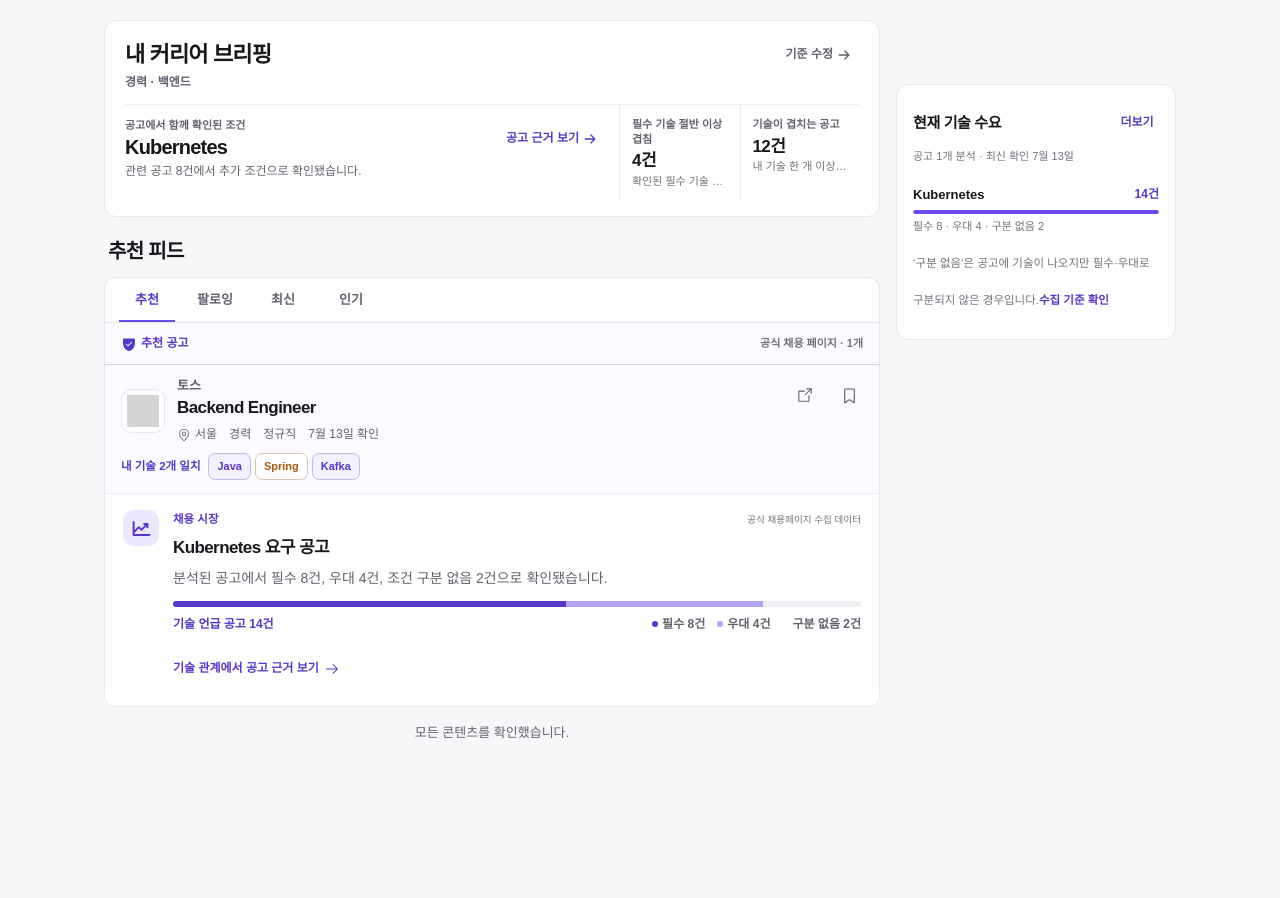
HomeFeed › renders verified market content without built-in community examples
Check: the heading "내 커리어 브리핑" is shown, box left=125, top=41, right=271, bottom=68
Check: the heading "추천 피드" is shown, box left=108, top=238, right=184, bottom=264
Click the tab "인기" at (351,300), box left=323, top=278, right=379, bottom=322
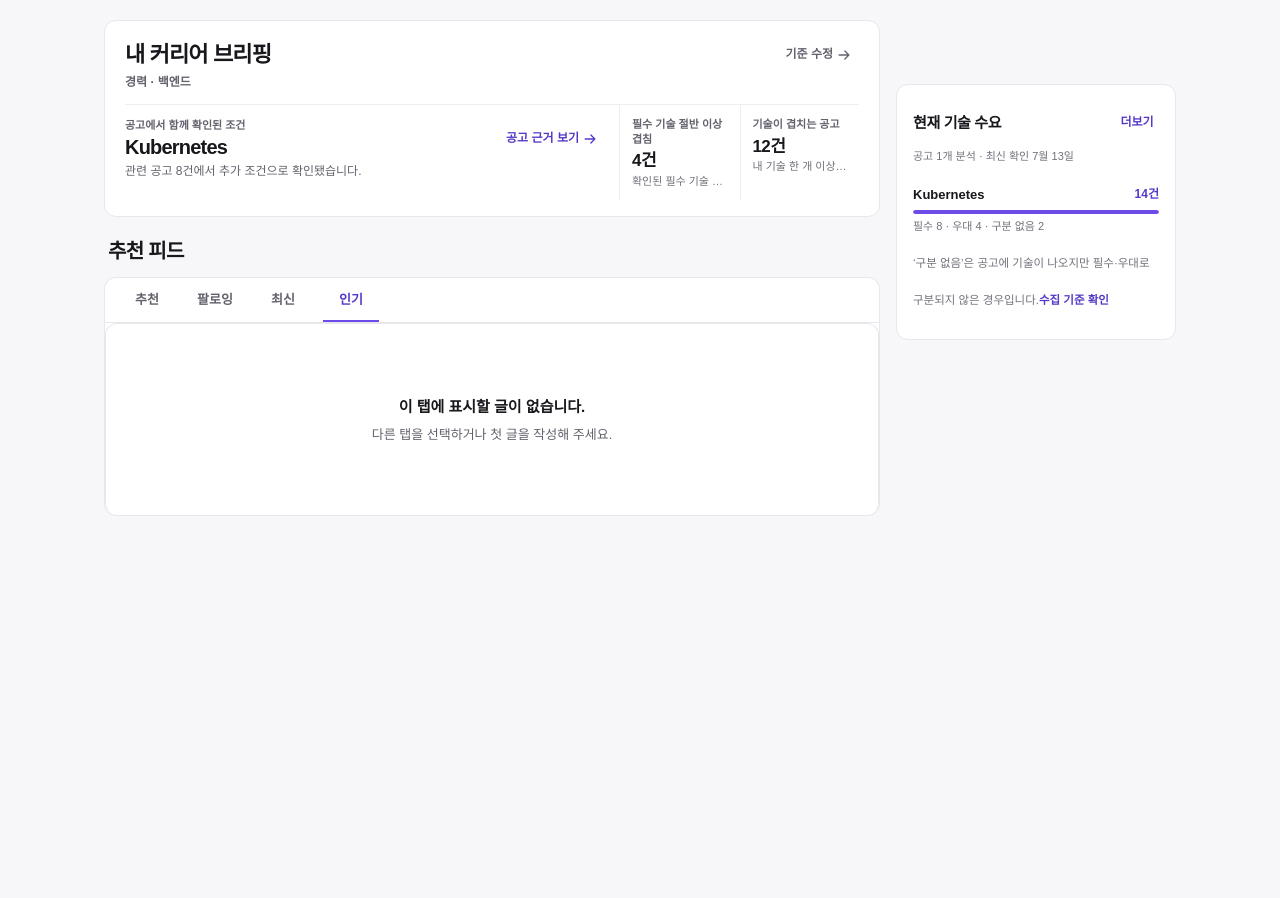
Check: the text "다른 탭을 선택하거나 첫 글을 작성해 주세요." is shown, box left=372, top=425, right=612, bottom=445
